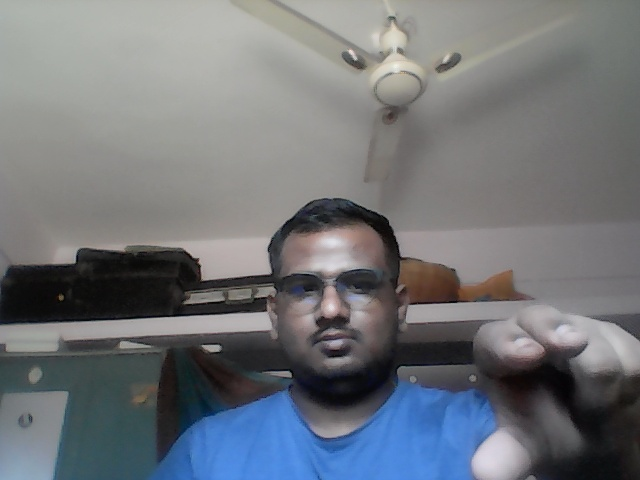No: (469, 302, 640, 480)
